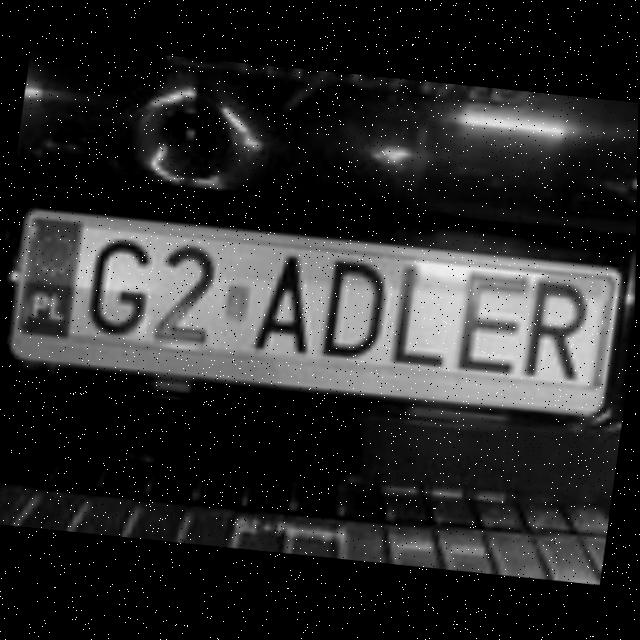license-plates: (16, 216, 615, 387)
